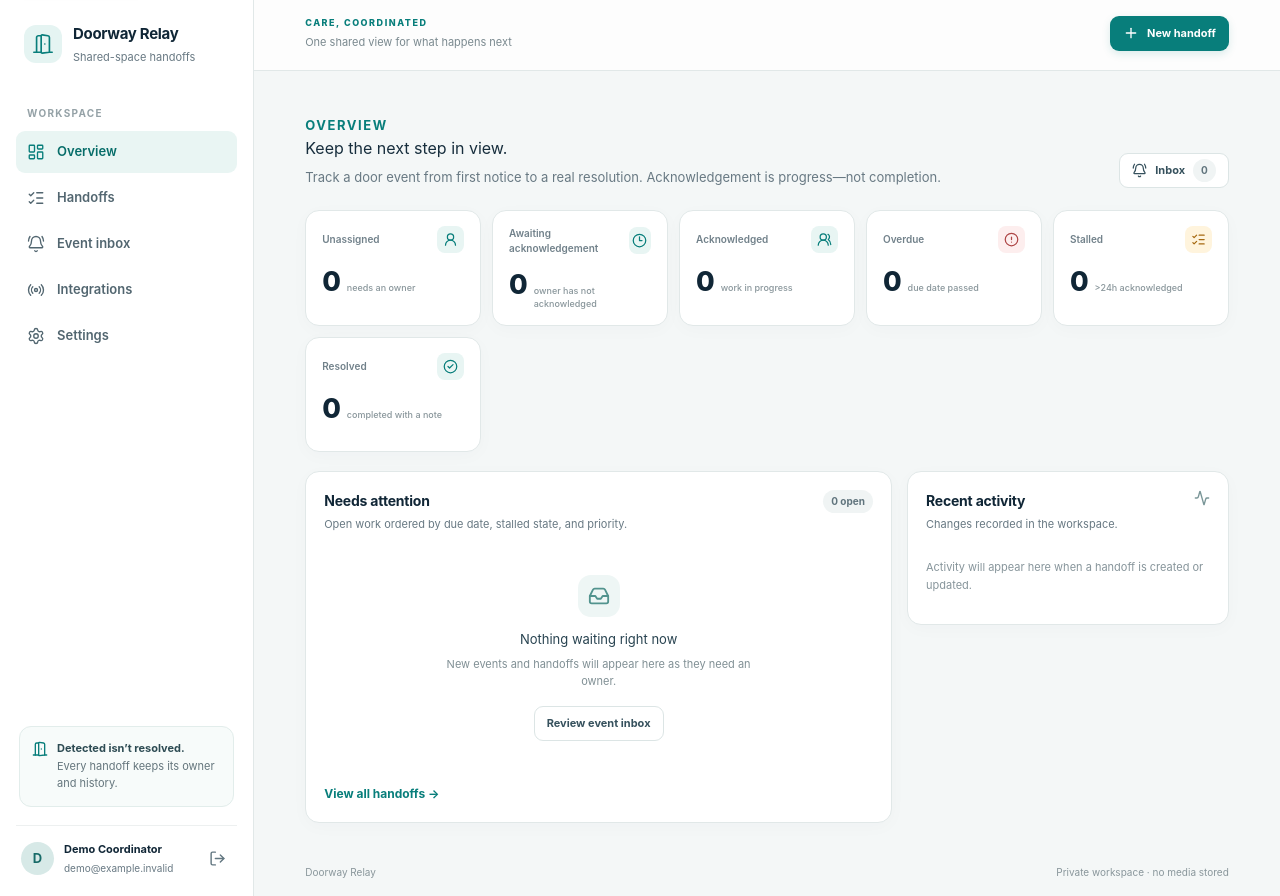
Test case: application routes and authenticated shell › shows Playground token and Event History blockers without offering a premature sync
Expected: the heading "Keep the next step in view." is shown, [305,138,507,158]
Click the link "Integrations".
click(80, 290)  # box [27,281,132,299]
(page scrolled)
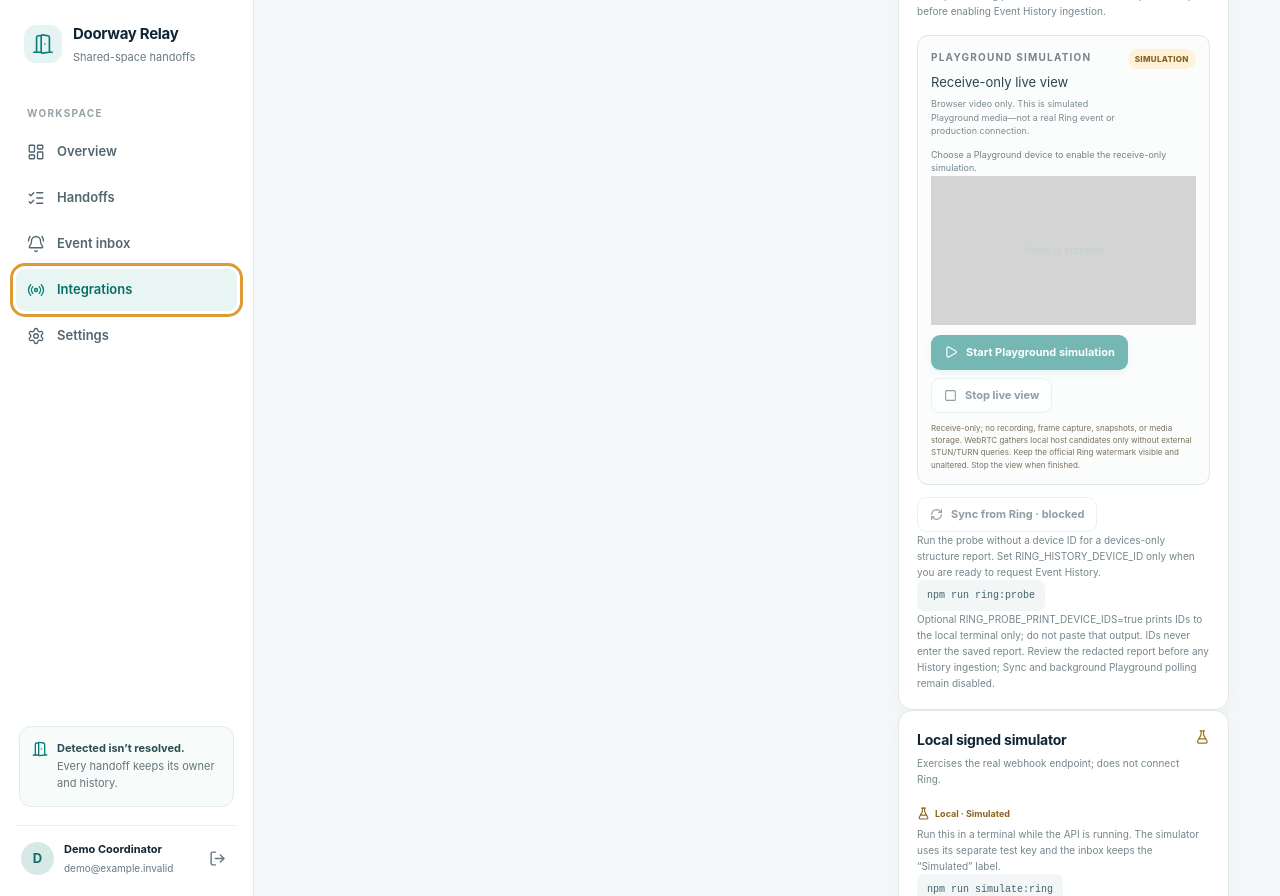
Result: the button "Sync from Ring · blocked" is disabled at [917,497,1097,532]
Result: the text "npm run ring:probe" is shown at [917,580,1045,611]
Result: the text "PLAYGROUND SIMULATION" is shown at [931,49,1118,65]
